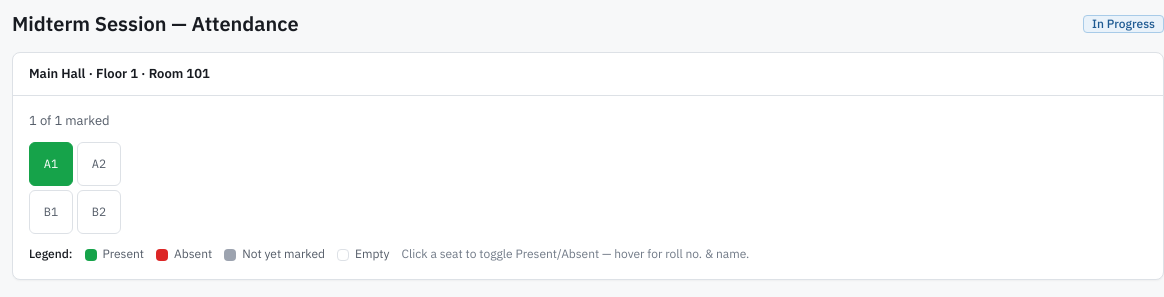
Test case: Faculty attendance marking › toggles Present -> Absent on a second click of an already-marked, unlocked seat
Expected: the heading "Midterm Session — Attendance" is shown, [12,12,299,36]
Click the button named "seat a1, jane doe (r001), attendance present" at point(51, 164), box [29,142,73,186]
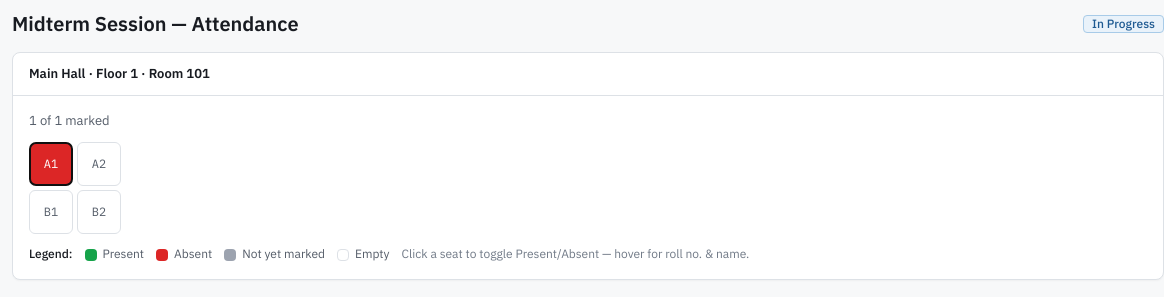
Expected: the button named "seat a1, jane doe (r001), attendance absent" is shown, [29,142,73,186]
